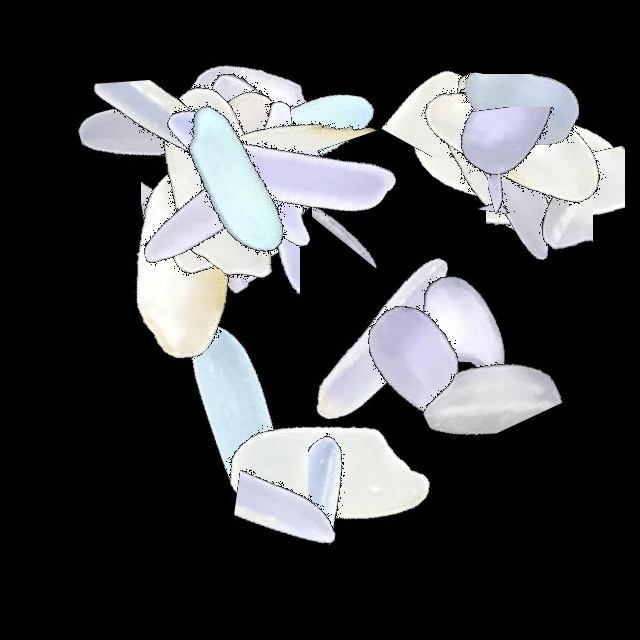Broken: (155, 17, 327, 267), (248, 283, 498, 452), (68, 161, 318, 318), (445, 27, 602, 277), (41, 78, 291, 234), (344, 283, 594, 438), (129, 104, 379, 258), (390, 107, 640, 250), (131, 291, 271, 541), (486, 107, 625, 357), (169, 80, 300, 330), (176, 440, 426, 571), (471, 83, 593, 333), (308, 371, 426, 621), (322, 41, 572, 157), (362, 138, 612, 248), (312, 65, 420, 315), (161, 106, 411, 212), (183, 49, 433, 151), (488, 54, 586, 304), (141, 73, 232, 323), (169, 53, 258, 303), (134, 127, 384, 214), (251, 90, 332, 340), (439, 43, 519, 293), (44, 168, 294, 247)
Full: (390, 26, 640, 276), (390, 31, 640, 281), (105, 54, 355, 304), (118, 97, 368, 347), (33, 9, 283, 259), (256, 215, 506, 465), (337, 202, 587, 452), (76, 49, 326, 299), (106, 288, 356, 538), (390, 64, 640, 314), (132, 29, 382, 279), (390, 14, 640, 264), (155, 20, 405, 270), (128, 40, 378, 290), (64, 136, 314, 386), (144, 0, 394, 250), (390, 21, 640, 271), (99, 58, 349, 308), (202, 354, 452, 604), (98, 63, 348, 313), (97, 71, 347, 321), (116, 48, 366, 298), (175, 48, 425, 298), (107, 57, 357, 307)
